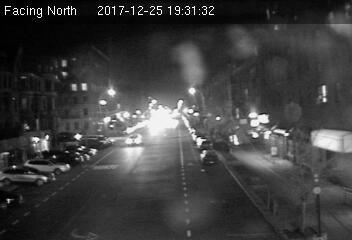car: (197, 150, 221, 167), (126, 133, 143, 146)
